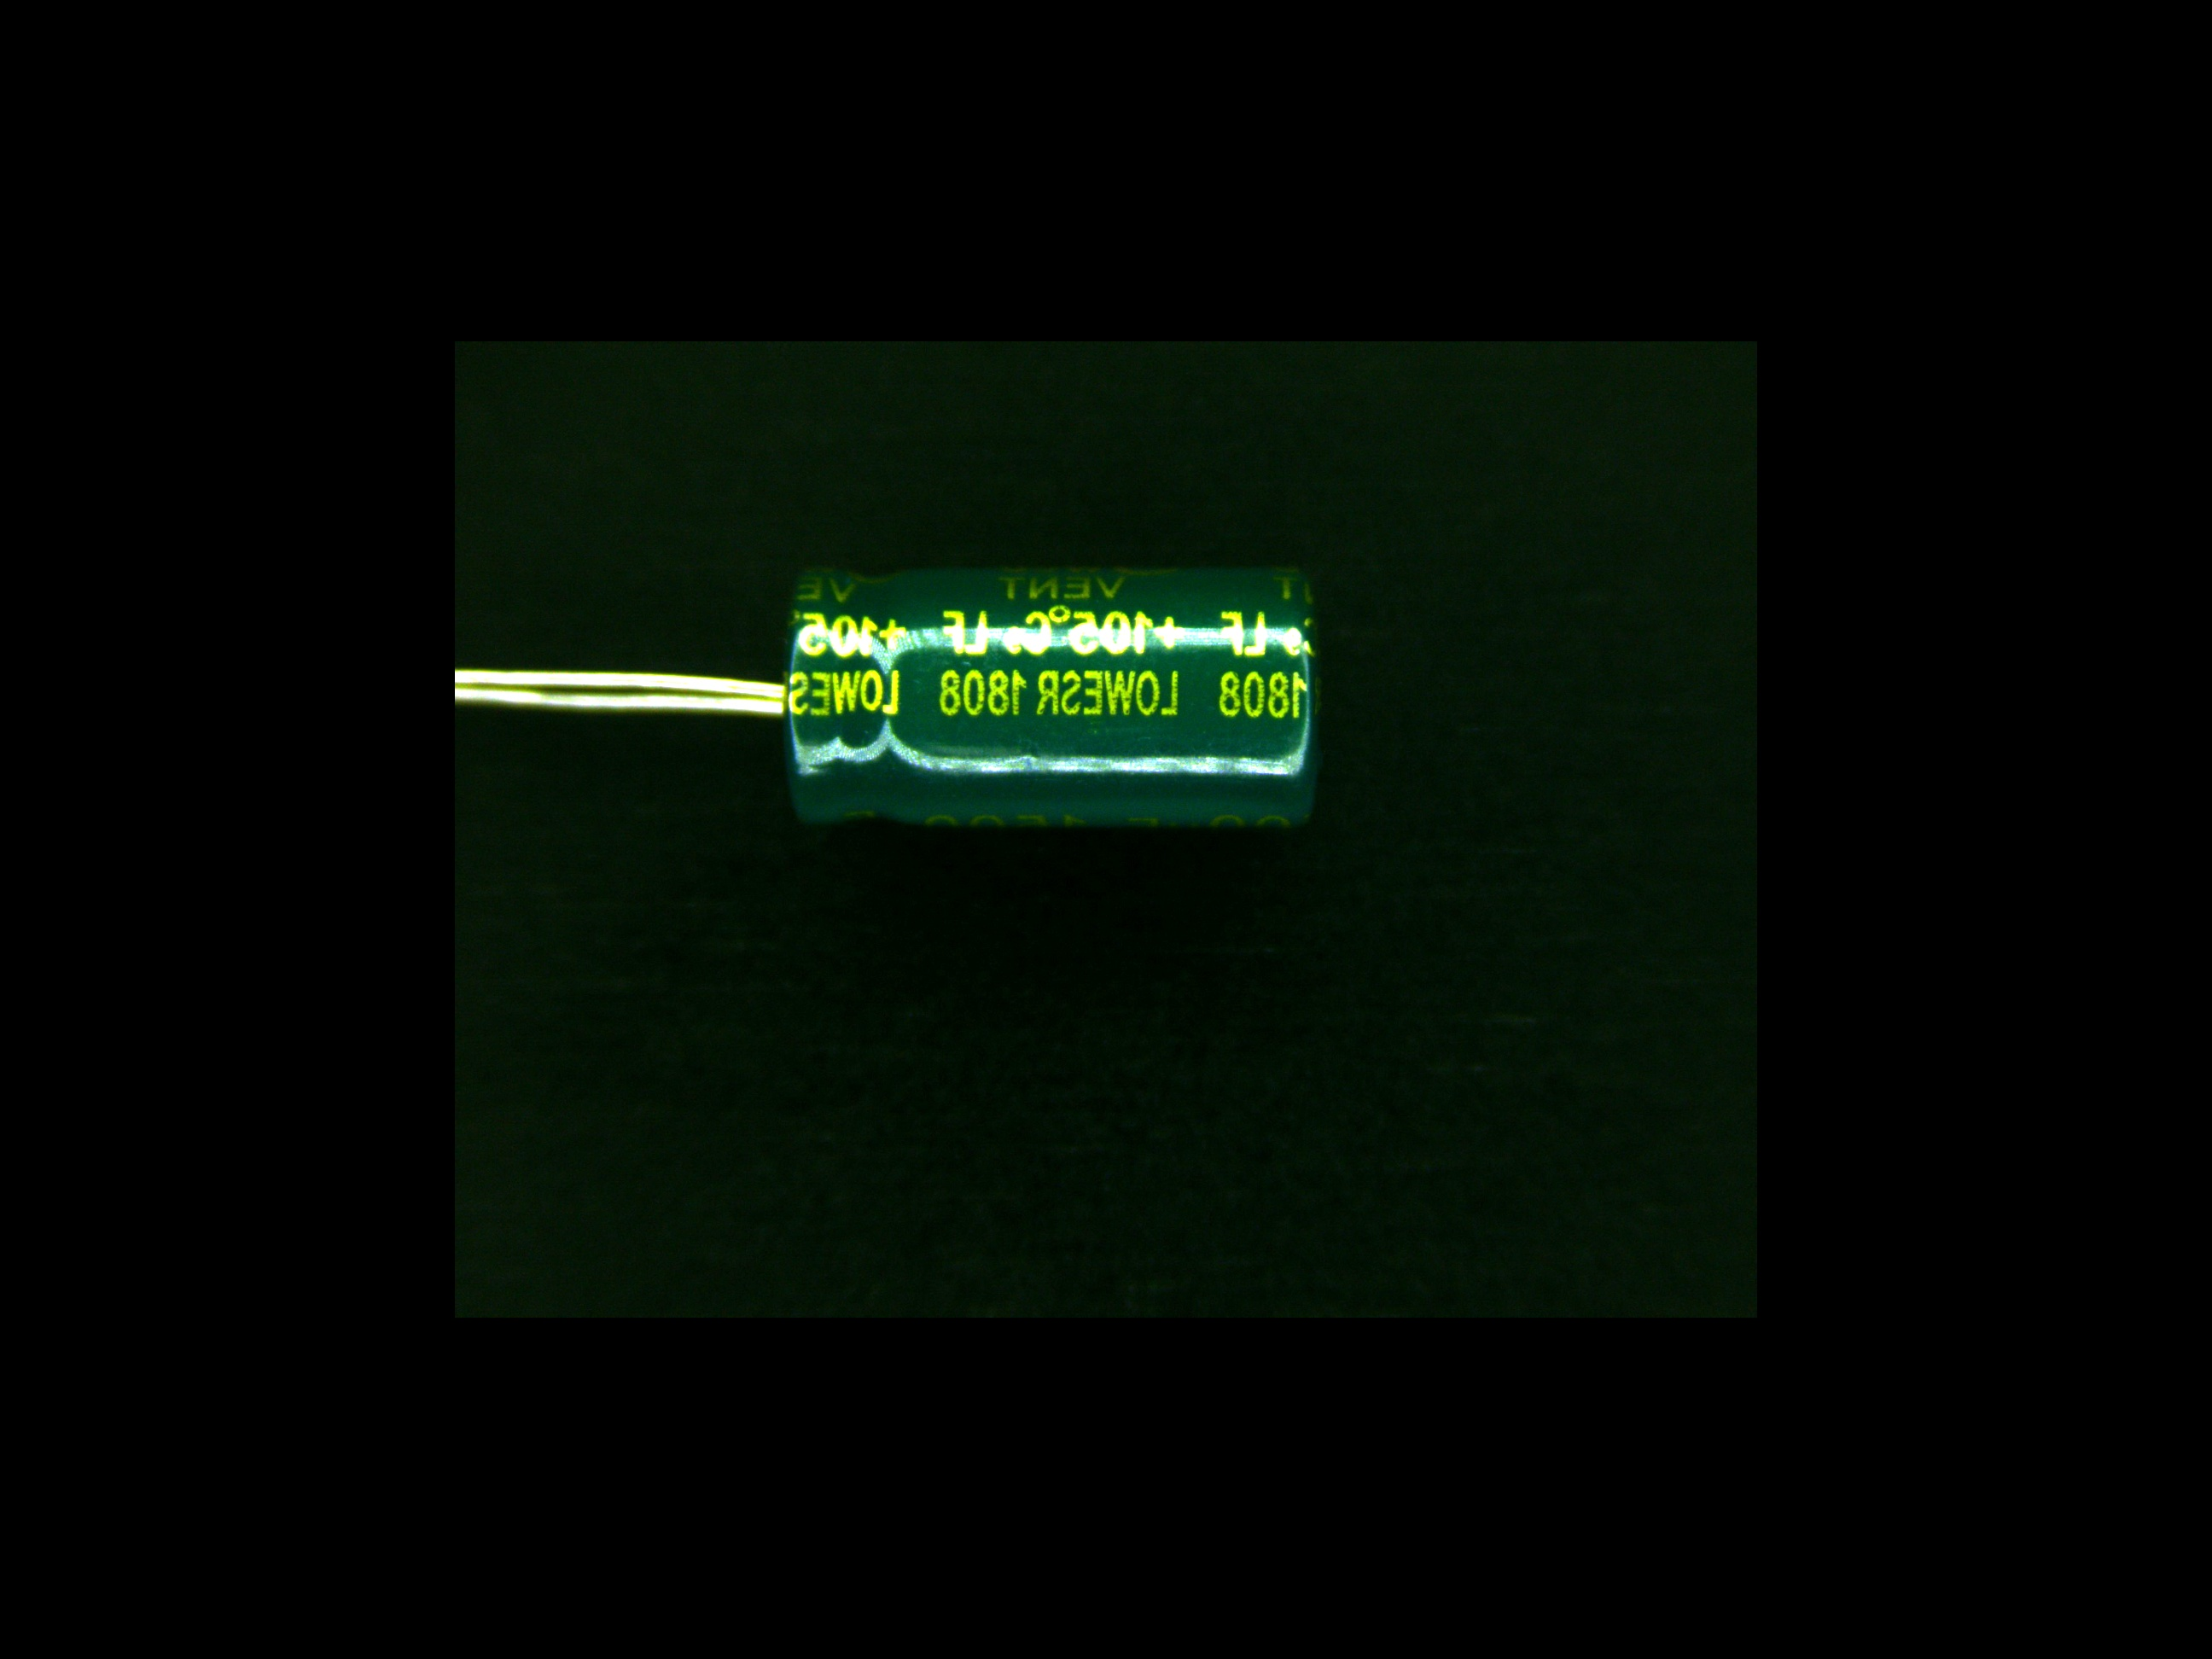c1: (725, 575, 1324, 831)
